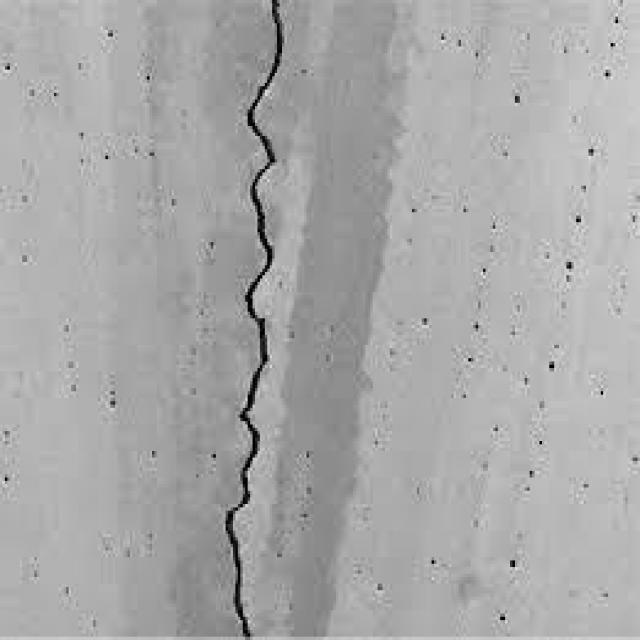defect: (216, 2, 289, 640)
